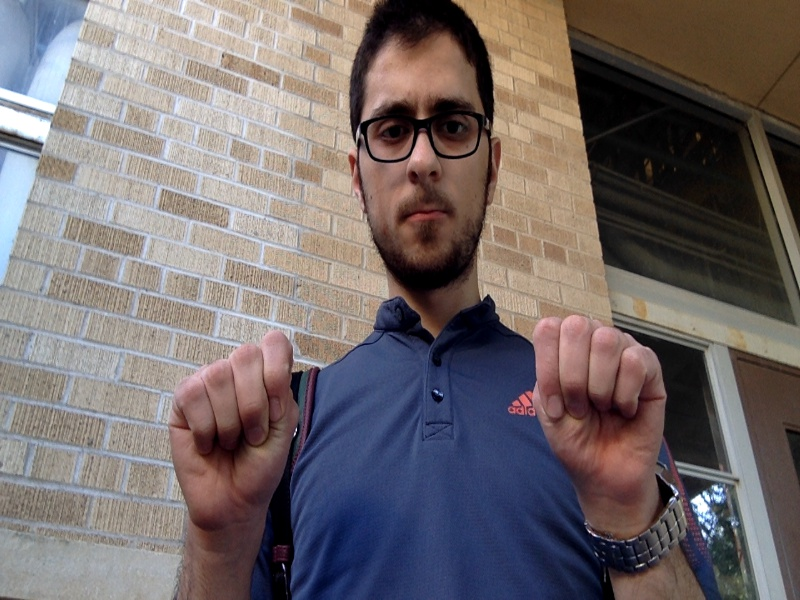0-hand: (169, 330, 296, 524), (532, 316, 663, 484)
